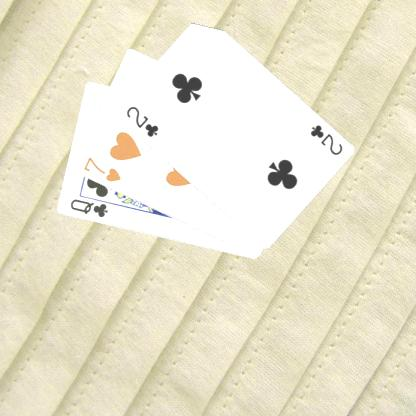2C: (123, 103, 160, 139), (307, 122, 344, 157)
7H: (80, 154, 122, 183)
QC: (67, 196, 109, 219)
